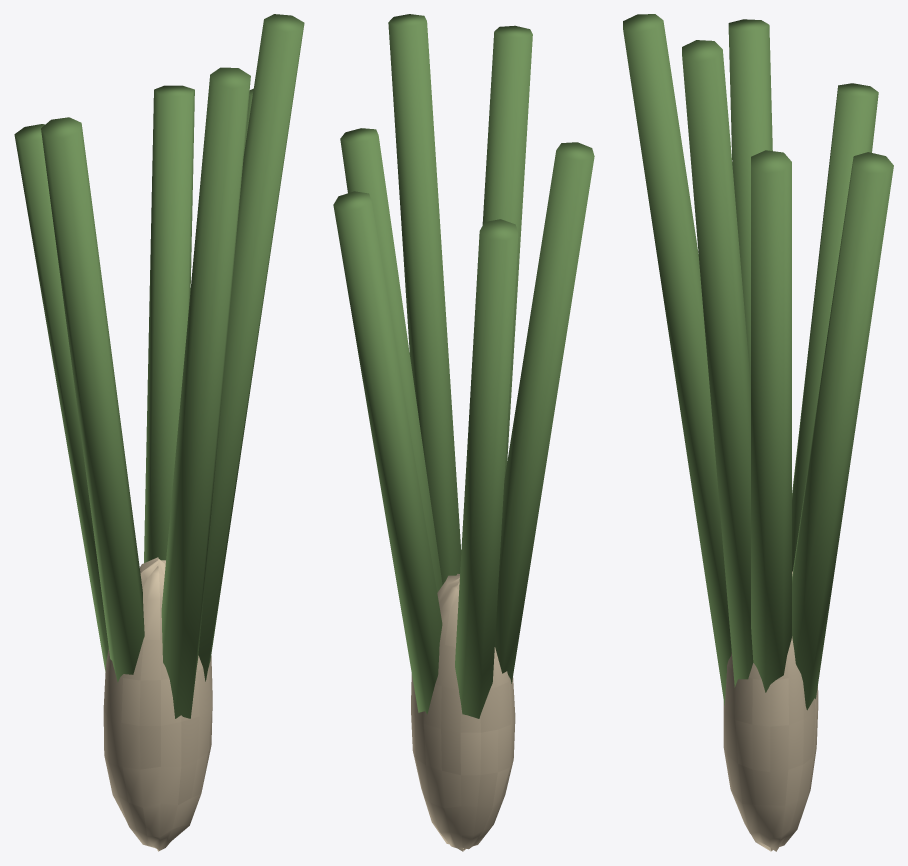
File: Leek.glb
The picture shows the model from 3 angles, left to right: view 1: azimuth 30°, elevation 25°; view 2: azimuth 150°, elevation 25°; view 3: azimuth 270°, elevation 25°; orthographic projection. The views are drawn at different scales.
Parts seen in each view (by area): view 1: Leek; view 2: Leek; view 3: Leek.
Part boxes in pixels (left/top/right/bottom): Leek: left=14, top=14, right=304, bottom=851; Leek: left=333, top=14, right=594, bottom=851; Leek: left=623, top=14, right=893, bottom=851.
Size of what is drawn, in the model's own units: 0.0553 by 0.1747 by 0.0505.
